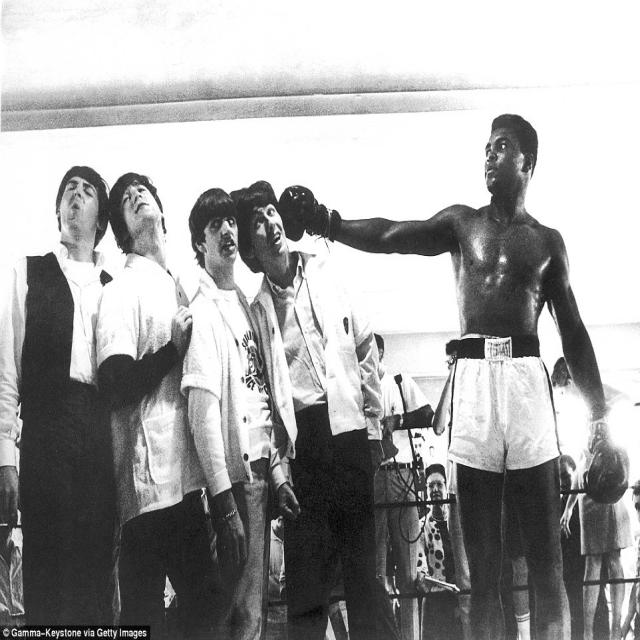body: (273, 110, 633, 639), (231, 181, 388, 639), (95, 170, 219, 640), (0, 164, 118, 627), (173, 181, 280, 639), (372, 331, 436, 640), (559, 448, 636, 640), (430, 336, 476, 639), (558, 453, 610, 640), (415, 463, 461, 593), (494, 511, 534, 640), (259, 511, 291, 637), (407, 424, 444, 513), (620, 477, 640, 640), (0, 521, 25, 638), (430, 335, 467, 374)
